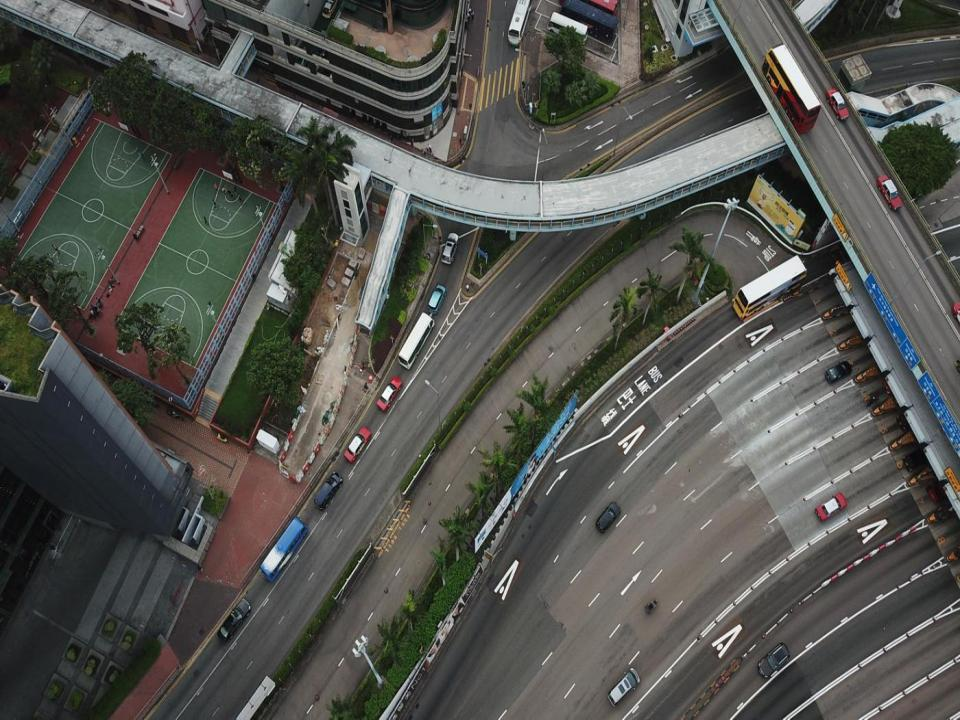bus: (762, 43, 821, 134), (733, 254, 806, 322), (260, 516, 308, 582), (559, 0, 618, 41), (398, 313, 434, 369), (547, 11, 588, 46), (560, 0, 619, 22), (508, 0, 532, 46)
car: (218, 598, 250, 642), (344, 426, 371, 463), (814, 492, 846, 522), (376, 377, 402, 412), (876, 175, 902, 210), (826, 87, 849, 120), (929, 478, 955, 502), (825, 361, 852, 384), (316, 27, 331, 56), (294, 46, 312, 70), (307, 55, 321, 76), (321, 0, 336, 18)
van: (608, 668, 640, 707), (314, 471, 343, 510), (758, 642, 790, 677), (897, 401, 924, 430), (595, 502, 621, 532), (903, 443, 930, 471), (441, 233, 459, 263), (428, 285, 446, 315)
